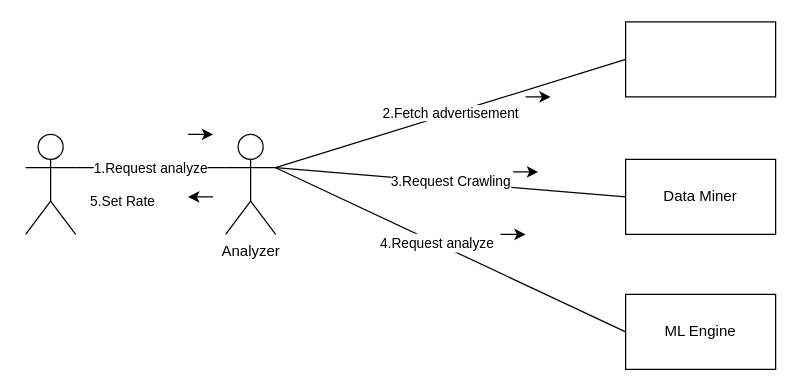
Image size: 798x391. Some labels were removed from this diagram. The box of each missing label's shape, as (x1, y1, x2, y2) in pixels:
Advertisement: (624, 21, 776, 97)
Marketer: (24, 133, 76, 234)
